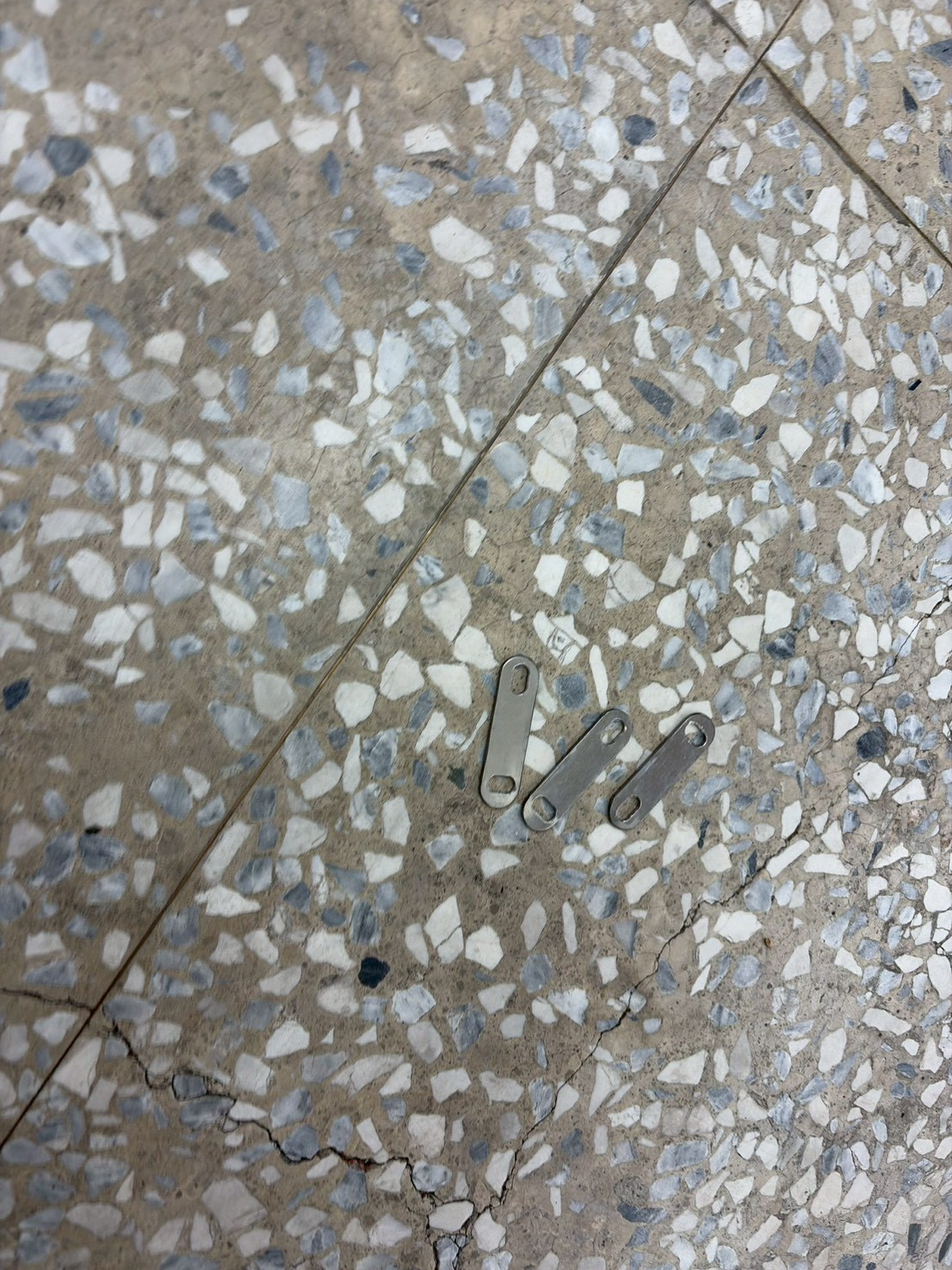Fe: (610, 693, 659, 851), (496, 649, 545, 807), (690, 699, 739, 853)
